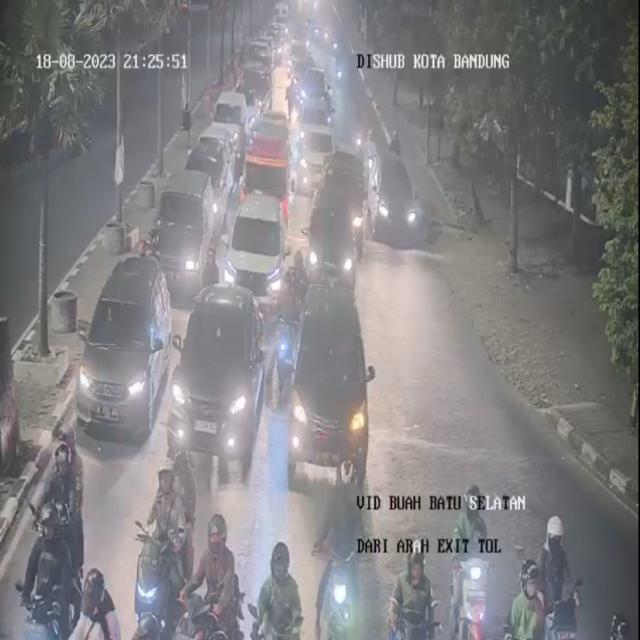cars: (289, 274, 382, 486), (171, 278, 273, 471), (74, 254, 166, 439), (303, 161, 365, 298), (228, 192, 290, 318), (156, 166, 212, 298), (372, 150, 418, 248), (186, 133, 231, 223), (326, 152, 371, 238), (245, 109, 291, 182), (245, 164, 290, 227), (302, 118, 336, 182), (210, 92, 246, 150)
motorcycle: (310, 464, 374, 637), (142, 465, 190, 638), (448, 471, 493, 640), (27, 499, 73, 638), (42, 422, 88, 556), (539, 507, 583, 634), (195, 510, 238, 634), (389, 537, 436, 640), (260, 533, 304, 639), (501, 553, 547, 640), (272, 275, 300, 396), (80, 561, 116, 638), (604, 607, 627, 640), (363, 133, 380, 177)
